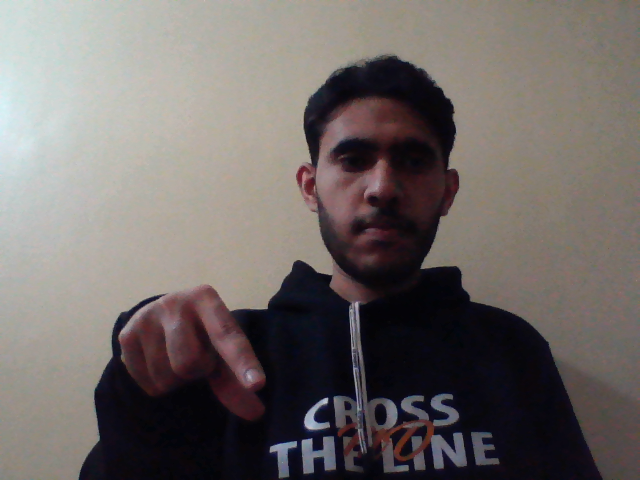Q: (106, 281, 275, 427)
